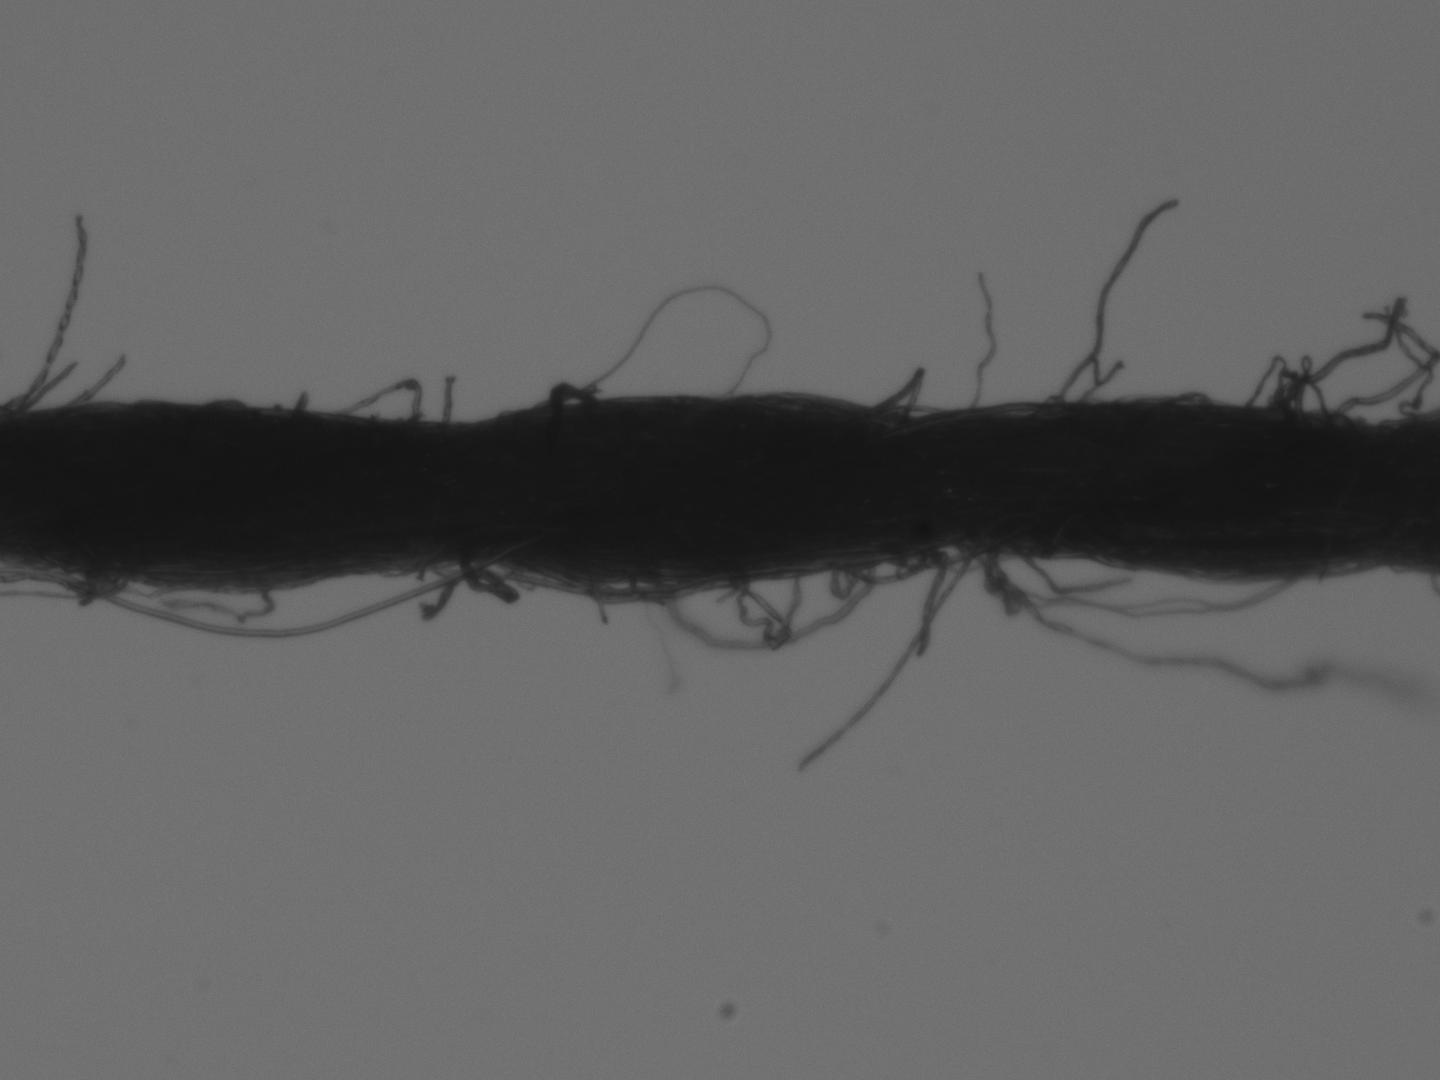loop_fiber: (582, 278, 779, 419), (642, 552, 880, 651), (830, 538, 1007, 587), (1235, 341, 1333, 423), (315, 370, 426, 440), (842, 360, 925, 452), (440, 549, 526, 614), (10, 563, 127, 607), (531, 373, 605, 425)
protruding_fiber: (8, 208, 93, 421)
